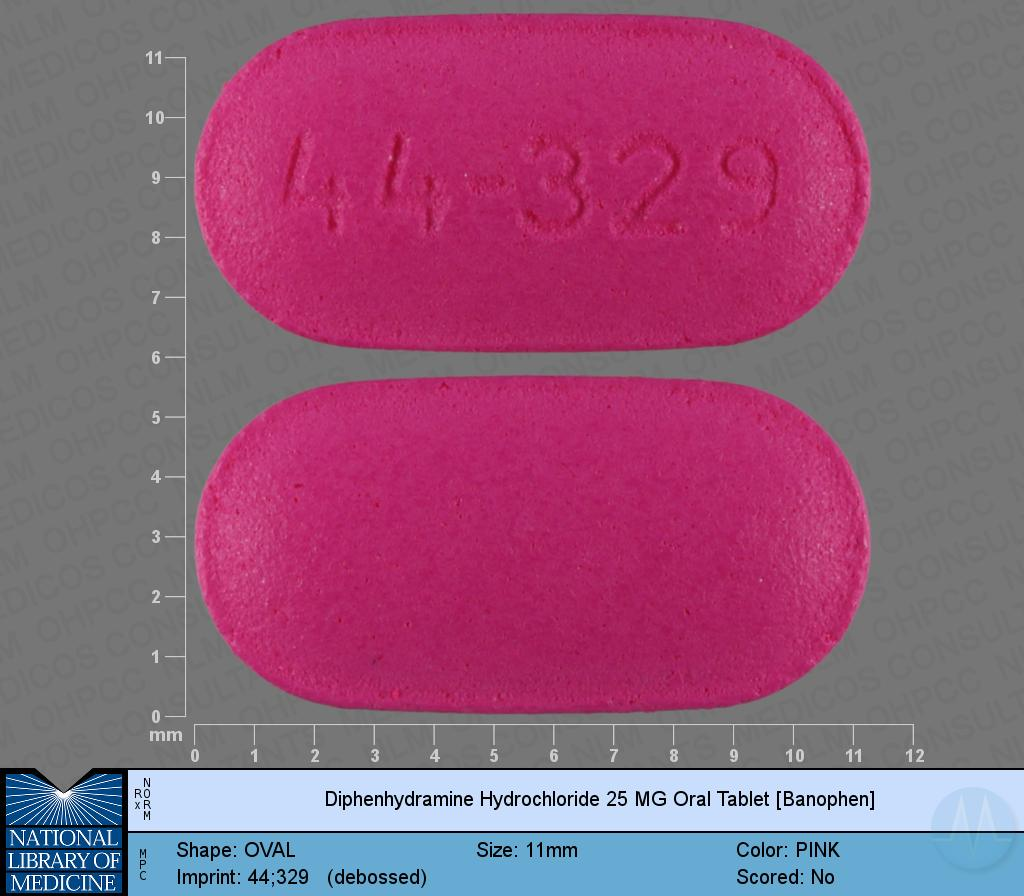Pill: (190, 3, 880, 363), (193, 370, 878, 722)
